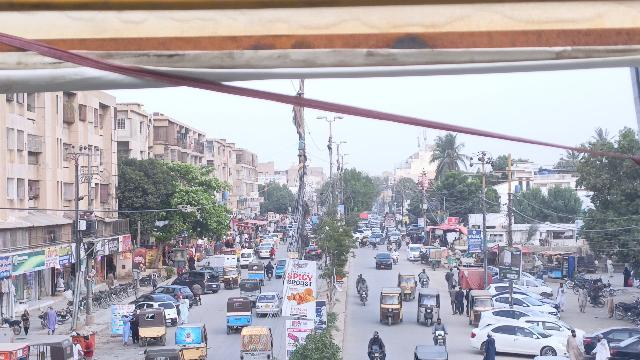Bike: (367, 348, 388, 360), (431, 332, 449, 346), (358, 288, 370, 308)
Car: (471, 323, 568, 356), (171, 269, 222, 294), (479, 305, 538, 324), (256, 291, 283, 317), (372, 252, 394, 270)
Person: (565, 329, 585, 360), (591, 333, 612, 360), (574, 284, 590, 314), (45, 305, 60, 336), (481, 331, 497, 360), (120, 312, 133, 347), (446, 283, 459, 316), (554, 282, 567, 312), (19, 308, 33, 335), (178, 294, 191, 323), (455, 285, 465, 316), (605, 291, 616, 318), (368, 330, 384, 348), (82, 335, 93, 358), (433, 318, 448, 333), (72, 338, 82, 360), (358, 279, 369, 291)
Rickshaw: (223, 294, 255, 336), (237, 323, 273, 360), (175, 323, 210, 360), (138, 306, 168, 348), (377, 284, 405, 327), (416, 288, 443, 327), (467, 290, 493, 326), (396, 270, 417, 302), (221, 264, 242, 288), (246, 260, 267, 283), (238, 278, 261, 298)
